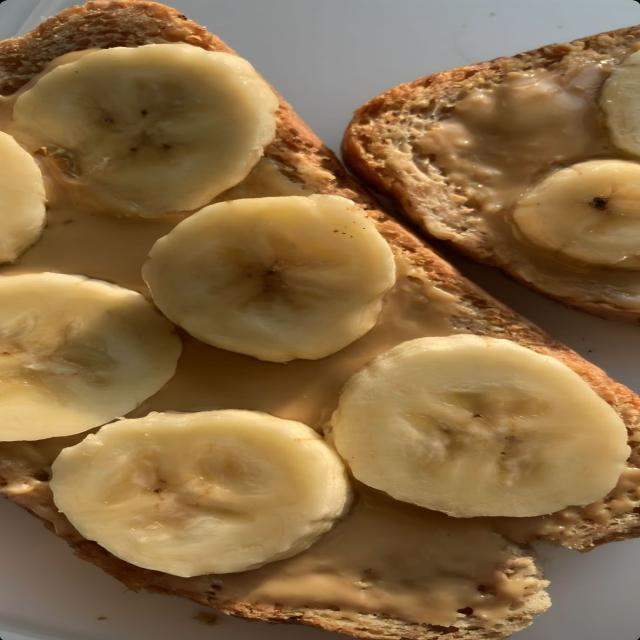banana slice: (332, 335, 629, 516), (51, 410, 350, 576), (9, 44, 278, 217), (143, 196, 394, 361), (0, 273, 180, 440), (514, 160, 639, 269), (0, 132, 45, 262), (600, 52, 639, 155)
sliced bread: (265, 99, 639, 472), (0, 444, 548, 640), (343, 26, 639, 325), (0, 0, 234, 97), (518, 483, 639, 550)
